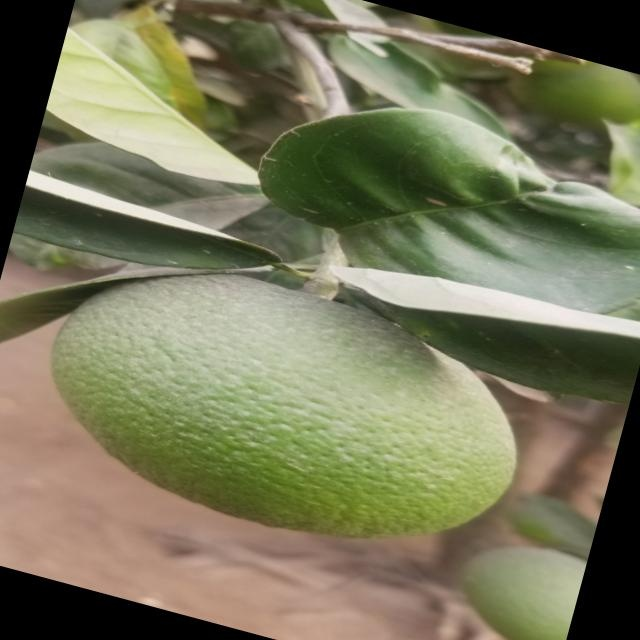agrume: (20, 225, 549, 580)
